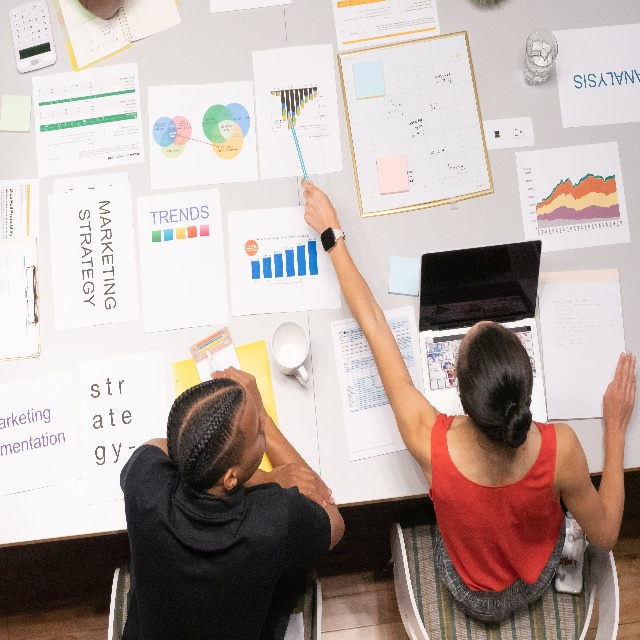Sin_guantes: (602, 349, 637, 436), (268, 463, 334, 507), (210, 366, 265, 417), (300, 176, 338, 233)
